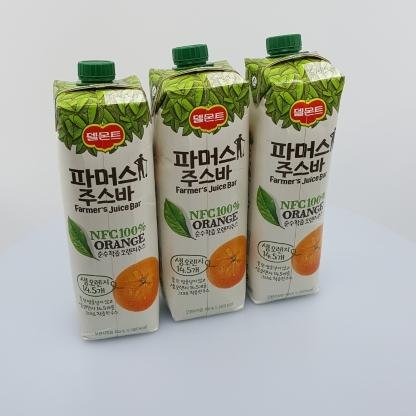------------1L: (53, 60, 159, 340), (148, 44, 250, 321), (245, 34, 345, 304)
